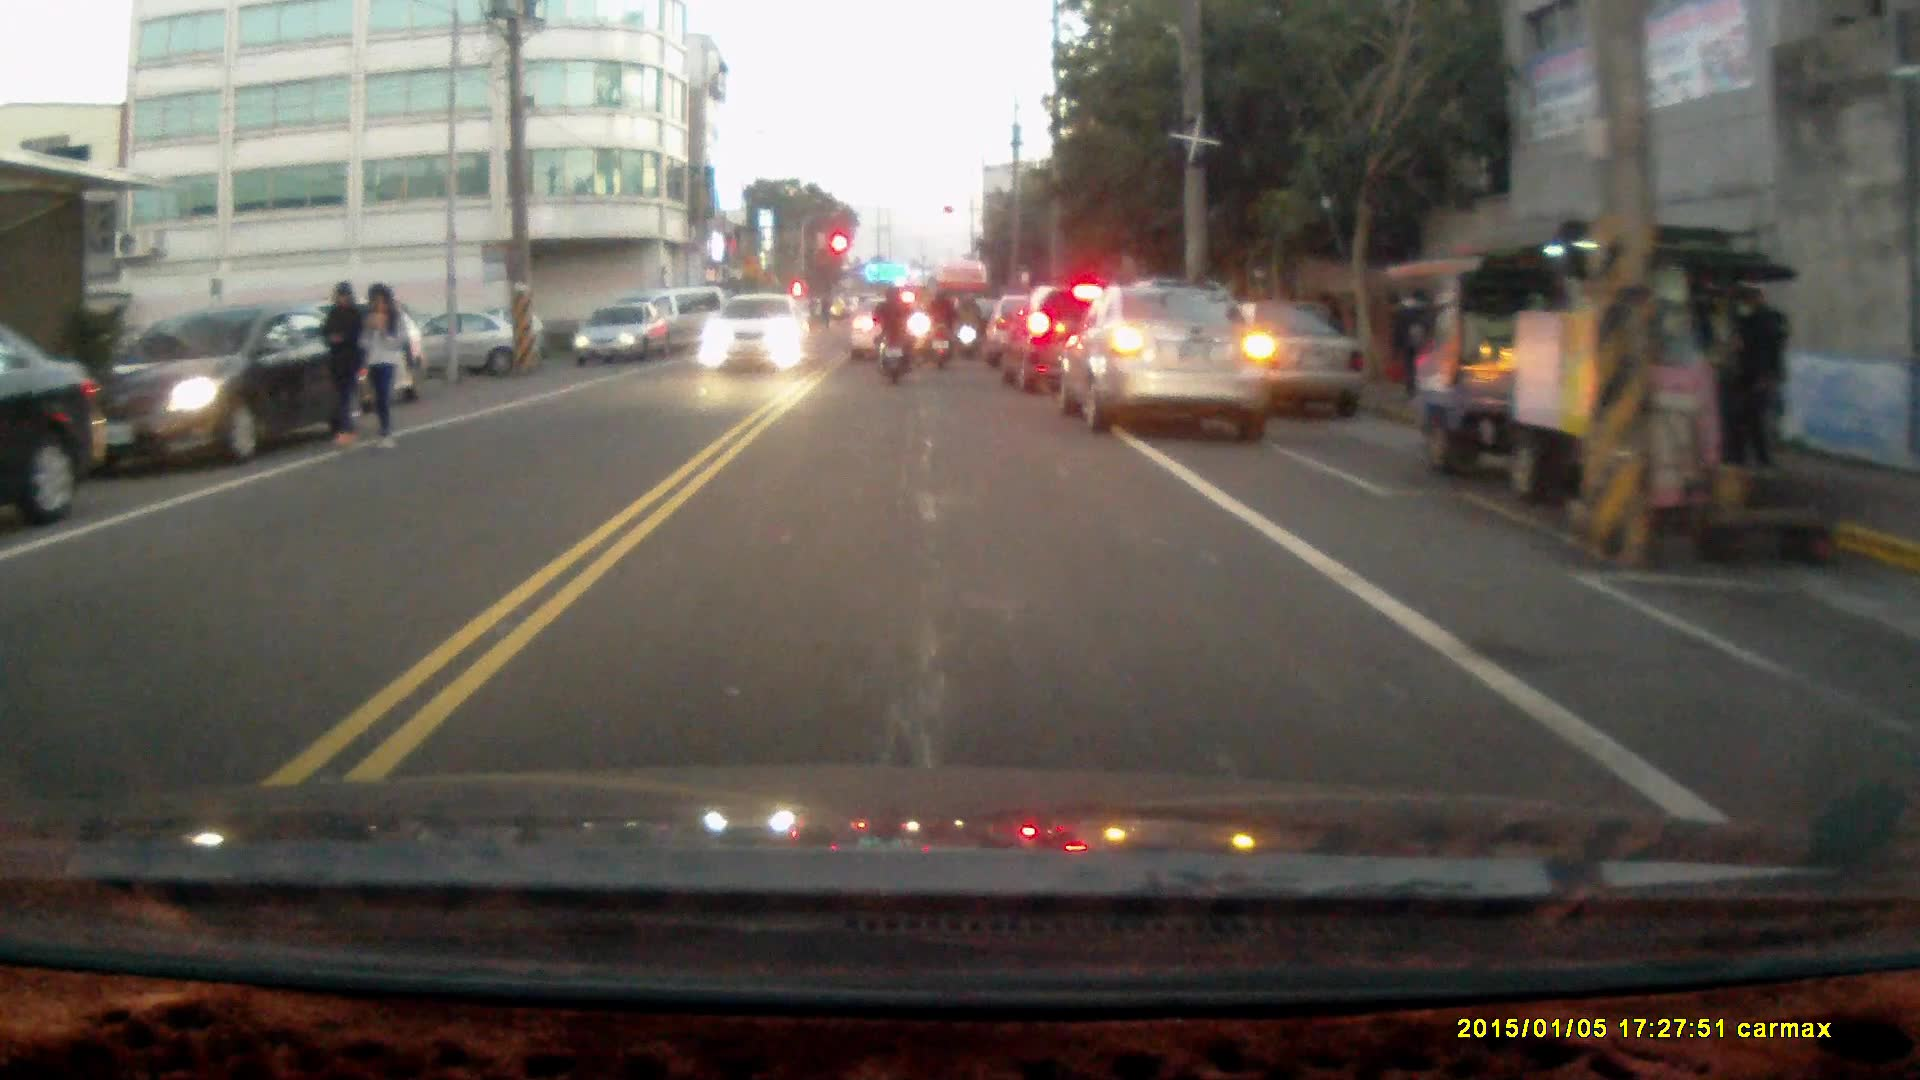pedestrian: (1736, 277, 1797, 470), (358, 280, 406, 451), (319, 274, 366, 449), (1393, 283, 1431, 406)
rider: (869, 282, 913, 386), (923, 287, 957, 368)
vehicle: (1417, 218, 1774, 497), (57, 297, 366, 472), (1067, 276, 1273, 429), (2, 318, 109, 532), (1009, 279, 1175, 392), (698, 295, 807, 372), (574, 304, 665, 365), (850, 294, 935, 359)
